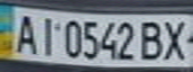0: (60, 17, 81, 60)
2: (115, 18, 139, 62)
4: (100, 18, 121, 61)
5: (78, 18, 103, 61)
A: (9, 10, 39, 55)
B: (136, 17, 166, 62)
I: (33, 14, 60, 56)
X: (157, 16, 193, 62)
